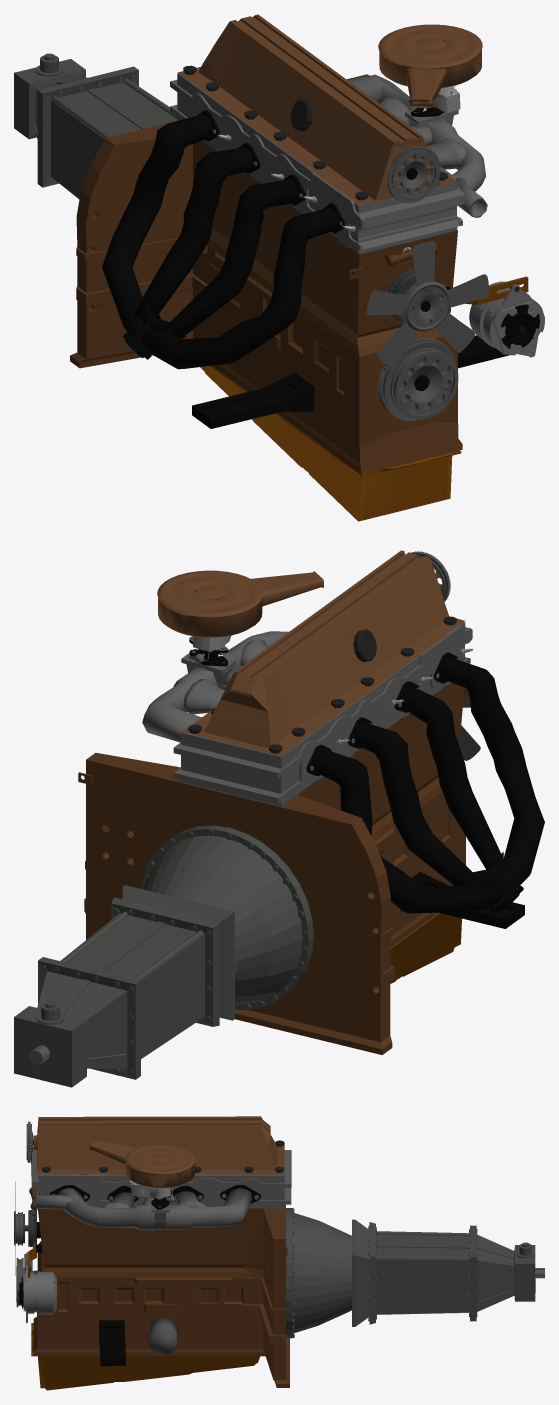
The model's file is chevrolet-chevette.glb.
3 renders of one model, top to bottom at view 1: azimuth 30°, elevation 25°; view 2: azimuth 150°, elevation 25°; view 3: azimuth 270°, elevation 25°, orthographic. The views are drawn at different scales.
Parts seen in each view (by area): view 1: bloco, Circle.002, Circle.003, Cylinder.006, Circle.006, carter, Cube.003, Circle.026, Cylinder.004, Circle.010, Cube.001, Circle.020 (+8 smaller); view 2: bloco, Cylinder.006, Circle.002, Circle.003, Circle.006, Cube.003, Cylinder.004, carter, Cube.001, Circle.009; view 3: bloco, Cylinder.006, Circle.003, Cylinder.004, Circle.006, carter, Cube.003, Circle.020, Cube.002, filtro.oleo, Circle.025, Cylinder.002.
Boxes of the visible parts, x1=… form: bloco: x1=70, y1=74, x2=462, y2=474; Circle.002: x1=102, y1=110, x2=344, y2=369; Circle.003: x1=177, y1=14, x2=456, y2=205; Cylinder.006: x1=14, y1=53, x2=177, y2=199; Circle.006: x1=170, y1=73, x2=464, y2=253; carter: x1=200, y1=365, x2=461, y2=521; Cube.003: x1=378, y1=24, x2=482, y2=107; Circle.026: x1=366, y1=241, x2=488, y2=367; Cylinder.004: x1=347, y1=74, x2=487, y2=217; Circle.010: x1=390, y1=348, x2=458, y2=419; Cube.001: x1=192, y1=373, x2=314, y2=428; Circle.020: x1=469, y1=281, x2=544, y2=357; bloco: x1=78, y1=683, x2=469, y2=1054; Cylinder.006: x1=14, y1=825, x2=313, y2=1087; Circle.002: x1=306, y1=652, x2=544, y2=913; Circle.003: x1=182, y1=550, x2=464, y2=756; Circle.006: x1=173, y1=622, x2=472, y2=805; Cube.003: x1=157, y1=570, x2=323, y2=637; Cylinder.004: x1=142, y1=631, x2=288, y2=742; carter: x1=390, y1=913, x2=461, y2=983; Cube.001: x1=400, y1=872, x2=524, y2=928; Circle.009: x1=188, y1=616, x2=456, y2=753; bloco: x1=33, y1=1208, x2=289, y2=1387; Cylinder.006: x1=286, y1=1208, x2=535, y2=1338; Circle.003: x1=33, y1=1116, x2=284, y2=1174; Cylinder.004: x1=35, y1=1185, x2=260, y2=1230; Circle.006: x1=31, y1=1149, x2=291, y2=1209; carter: x1=31, y1=1323, x2=259, y2=1390; Cube.003: x1=89, y1=1140, x2=195, y2=1188; Circle.020: x1=23, y1=1265, x2=56, y2=1322; Cube.002: x1=99, y1=1320, x2=125, y2=1366; filtro.oleo: x1=148, y1=1317, x2=177, y2=1355; Circle.025: x1=131, y1=1181, x2=170, y2=1197; Cylinder.002: x1=23, y1=1210, x2=36, y2=1246.
Size of the model in its own units: 3.55 by 3.68 by 6.89.
